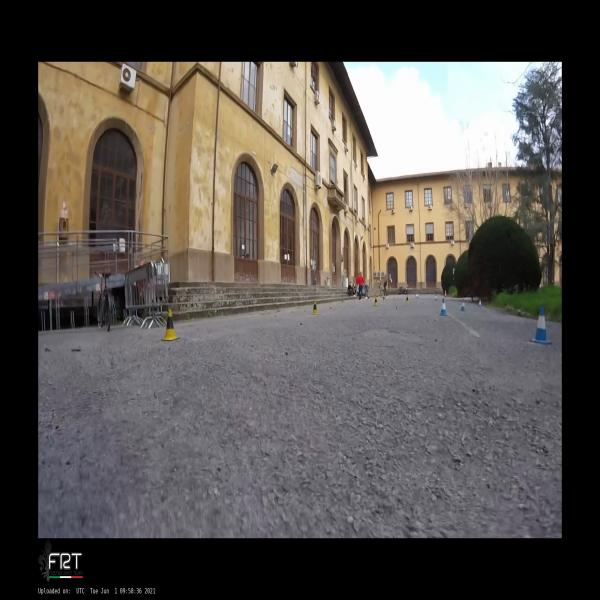blue_cone: (530, 308, 552, 345), (439, 297, 448, 316), (460, 299, 466, 312), (478, 299, 482, 308), (434, 294, 438, 301), (415, 292, 417, 298), (417, 293, 419, 298)
large_orange_cone: (444, 290, 447, 298)
yellow_cone: (161, 308, 180, 341), (312, 300, 319, 315), (373, 296, 378, 306), (406, 296, 409, 304), (383, 296, 385, 301)
